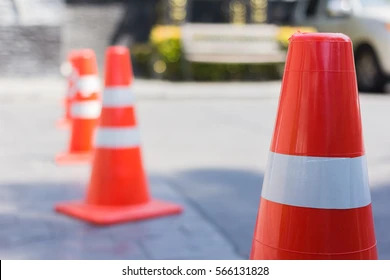cones: (245, 27, 383, 260), (72, 45, 186, 225)
